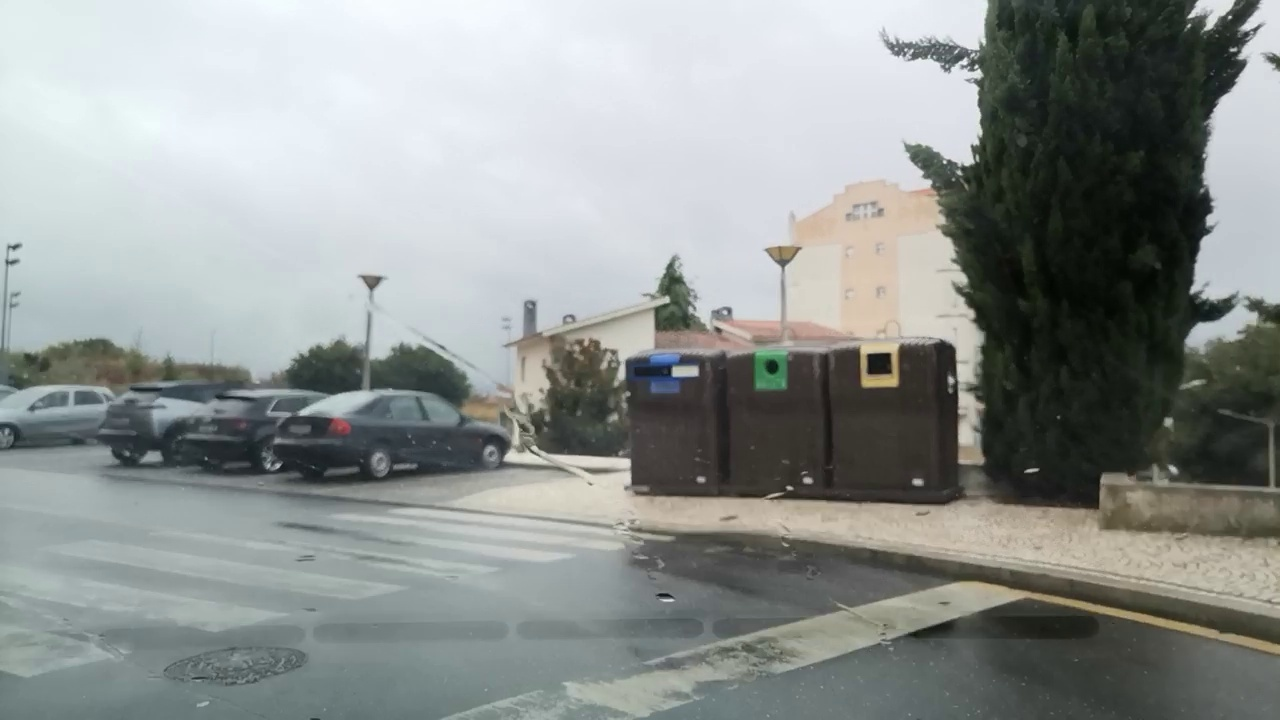Stairs: (0, 504, 675, 676)
